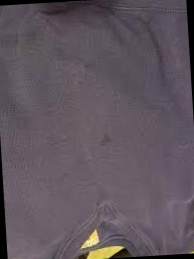oil: (97, 132, 116, 150)
